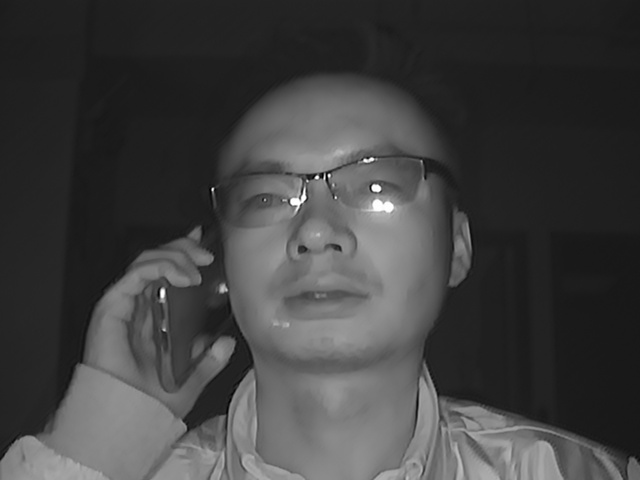hand: (93, 233, 208, 405)
